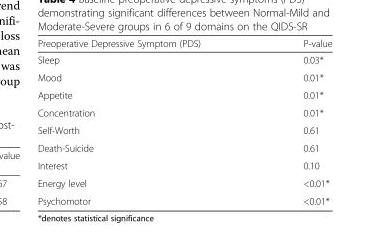table: (36, 37, 331, 206)
table column: (36, 37, 251, 206), (251, 37, 331, 206)
table column header: (36, 37, 331, 51)
table row: (36, 85, 331, 103), (36, 103, 331, 121), (36, 138, 331, 156), (36, 156, 331, 174), (36, 51, 331, 68), (36, 68, 331, 85), (36, 121, 331, 138), (36, 174, 331, 191), (36, 191, 331, 206), (36, 37, 331, 51)
